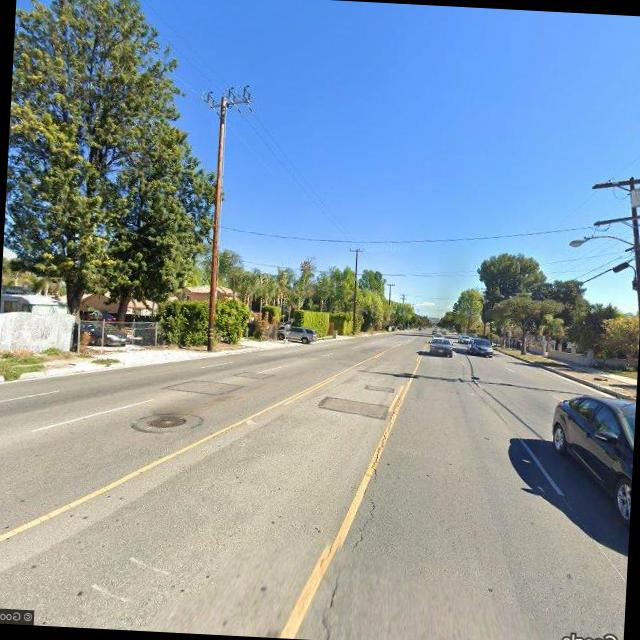pothole: (322, 388, 402, 631)
